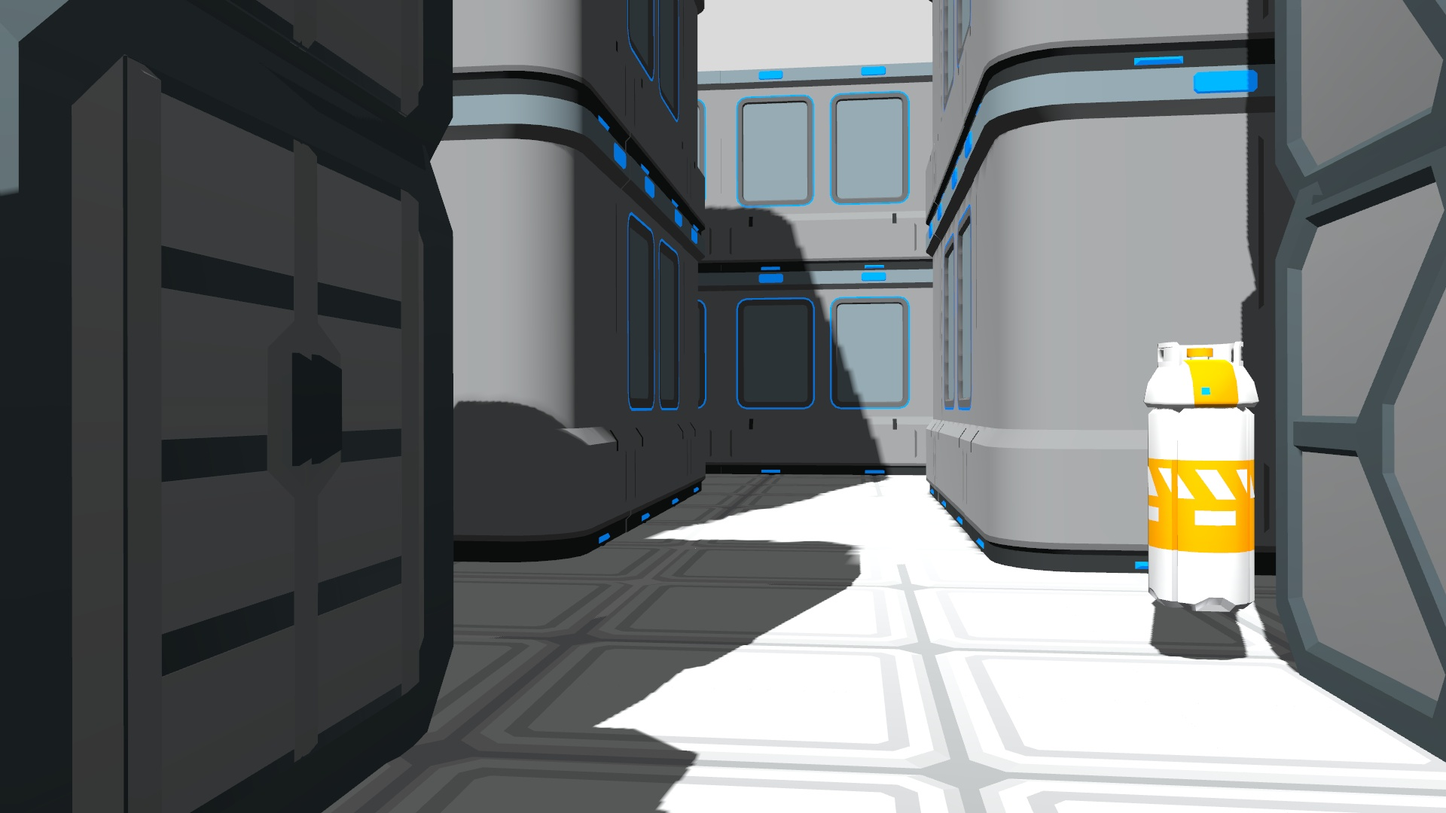yellow_barrel: (1139, 335, 1265, 619)
